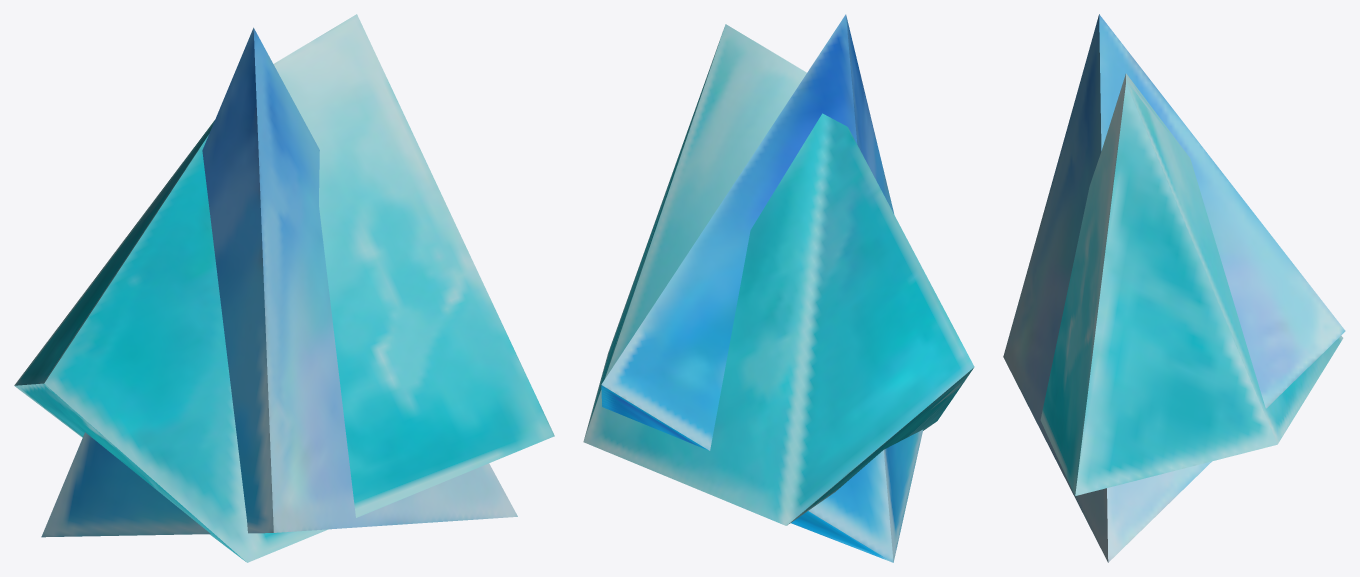
The picture shows the model from 3 angles, left to right: view 1: azimuth 30°, elevation 25°; view 2: azimuth 150°, elevation 25°; view 3: azimuth 270°, elevation 25°; orthographic projection. The views are drawn at different scales.
Visible parts, largest first — view 1: sf_zy_sj001, sf_zy_sj002; view 2: sf_zy_sj001, sf_zy_sj002; view 3: sf_zy_sj001, sf_zy_sj002.
Boxes of the visible parts, left/top/right/bottom form: sf_zy_sj001: left=14, top=14, right=554, bottom=562; sf_zy_sj002: left=41, top=27, right=517, bottom=537; sf_zy_sj001: left=583, top=24, right=974, bottom=525; sf_zy_sj002: left=601, top=14, right=923, bottom=562; sf_zy_sj001: left=1040, top=73, right=1343, bottom=495; sf_zy_sj002: left=1003, top=14, right=1345, bottom=562.
Bounding box in the file's own units: 0.257 × 0.296 × 0.2068.
